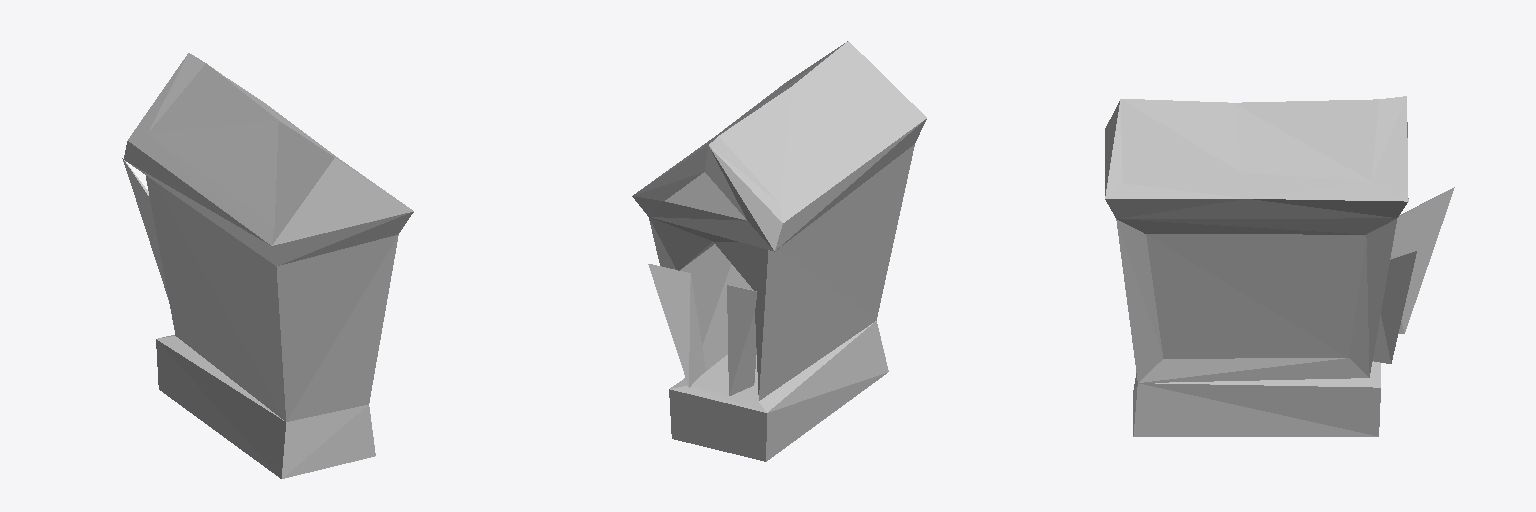
Rendered from caveLow.obj.
3 views of the same model, side by side, from view 1: azimuth 30°, elevation 25°; view 2: azimuth 150°, elevation 25°; view 3: azimuth 270°, elevation 25° (orthographic).
Parts seen in each view (by area): view 1: Buidling; view 2: Buidling; view 3: Buidling.
Part boxes in pixels (x1,y1,x2,y2): Buidling: (122,53,413,478); Buidling: (632,41,926,461); Buidling: (1105,96,1454,436).
Size of the model in its own units: 2.93 by 6.16 by 6.18.